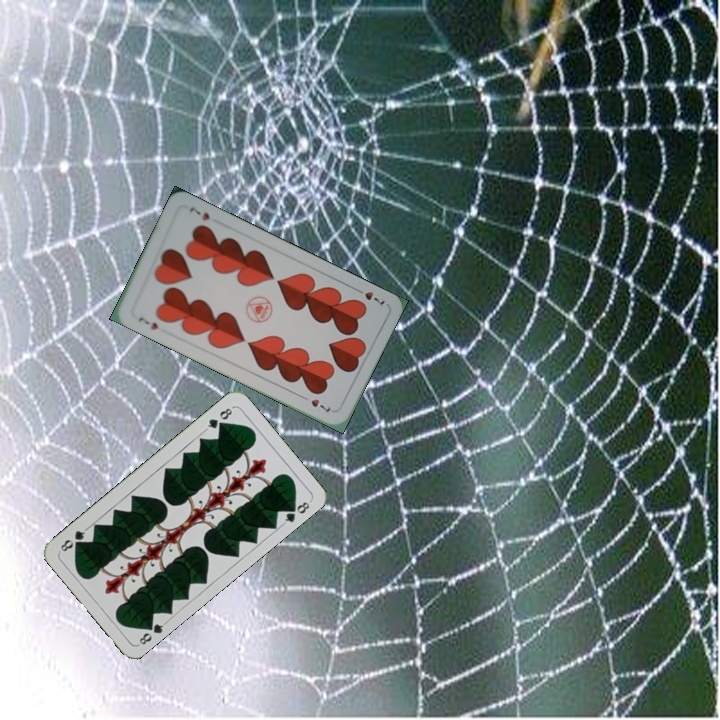G8: (135, 617, 169, 648), (202, 403, 236, 433)
H7: (351, 284, 388, 310), (134, 313, 160, 333)
